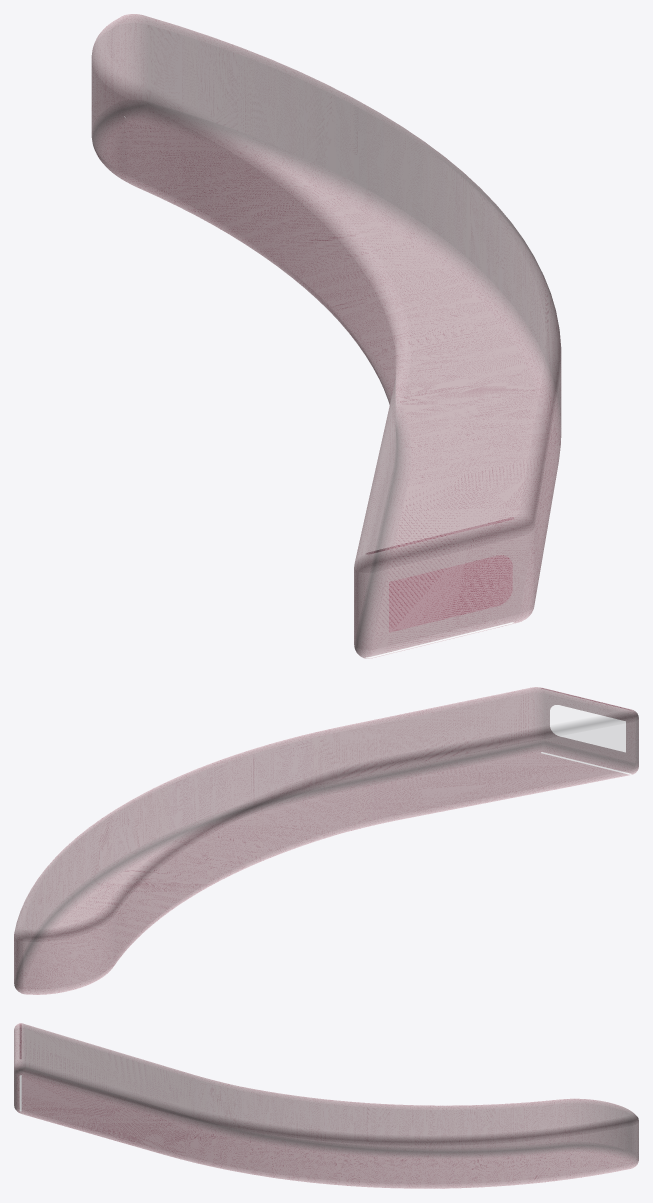
File: original-34.obj
3 renders of one model, top to bottom at view 1: azimuth 30°, elevation 25°; view 2: azimuth 150°, elevation 25°; view 3: azimuth 270°, elevation 25°, orthographic. The views are drawn at different scales.
Visible parts, largest first — view 1: #ID354; view 2: #ID354; view 3: #ID354.
Part boxes in pixels (x1=…): #ID354: x1=91, y1=14, x2=561, y2=658; #ID354: x1=14, y1=687, x2=638, y2=994; #ID354: x1=14, y1=1023, x2=638, y2=1188.
Bounding box in the file's own units: 0.3957 × 0.082 × 0.8845.
